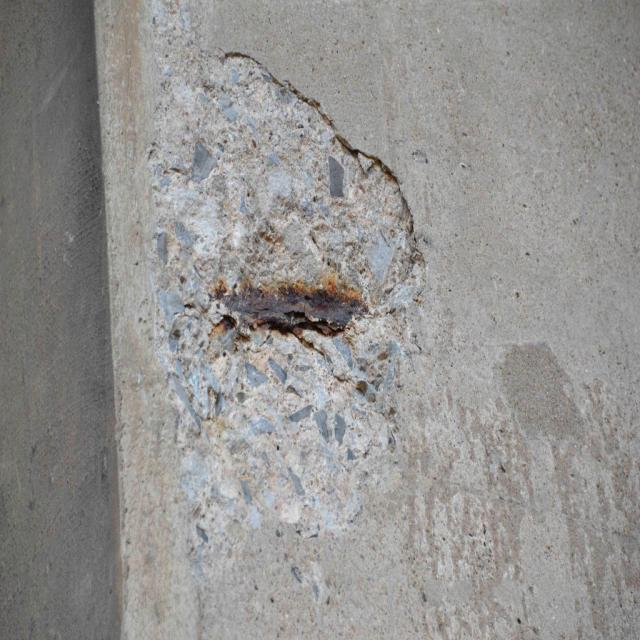Rebar: (145, 0, 427, 588)
